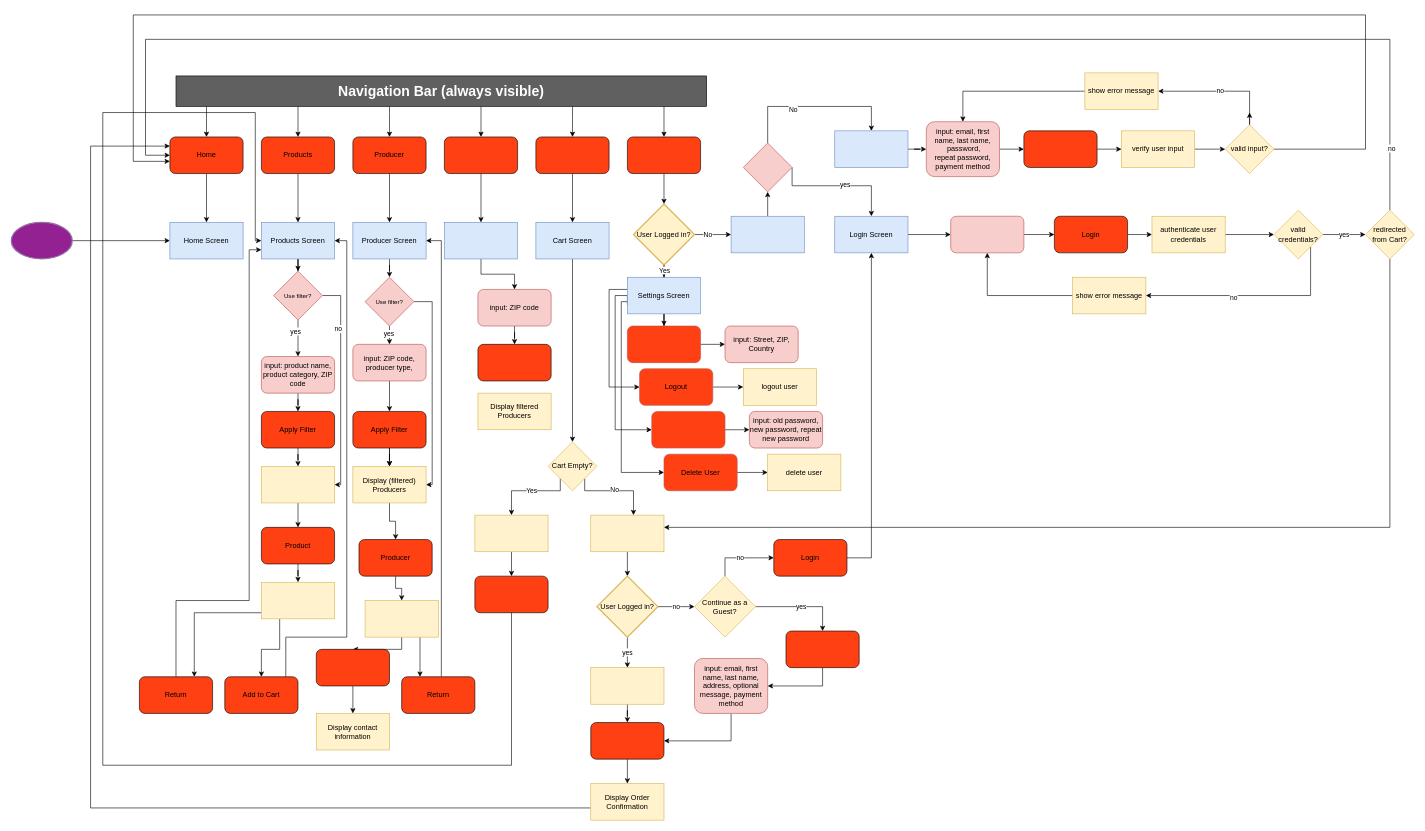
The diagram is 1425 pixels wide and 831 high, and some of its shapes have lost their labels. The shapes that lost their labels are listed below. From the top down, each one's box as (x1, y1, x2, y2) in pixels, then its label:
(444, 136, 518, 174): Maps
(535, 136, 609, 174): Cart
(627, 136, 701, 174): My Account
(743, 142, 792, 192): Existing User?
(834, 130, 908, 167): Signup Screen
(1023, 130, 1097, 167): Signup
(10, 221, 73, 259): Open App
(444, 222, 518, 259): Maps Screen
(730, 216, 804, 253): Start Screen
(950, 216, 1024, 253): input: email, password
(477, 344, 551, 381): Filter by ZIP code
(627, 325, 701, 363): Change Address
(651, 411, 725, 448): Reset Password
(261, 466, 335, 503): Display (filtered) Products
(474, 515, 548, 552): Discover Products message
(590, 515, 664, 552): Display Order Summary
(261, 582, 335, 619): Product Information
(474, 576, 548, 613): Discover Products
(364, 600, 438, 637): Producer information
(316, 649, 389, 686): Contact
(785, 630, 859, 668): Guest
(590, 667, 664, 704): auto-fill user info
(590, 722, 664, 759): Checkout
